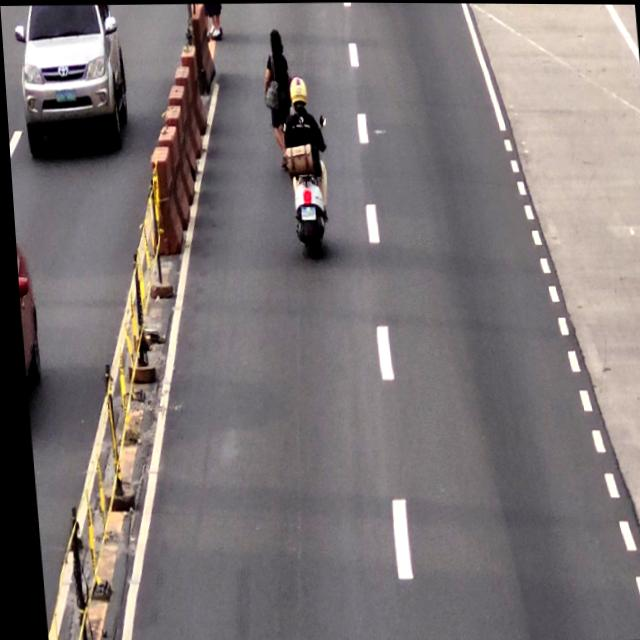Motorcycle: (280, 78, 326, 252)
